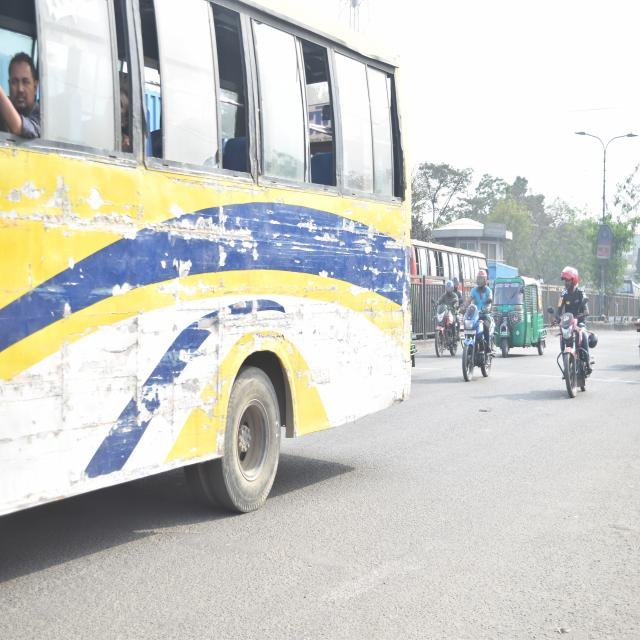bus: (0, 0, 412, 532)
motorbike: (544, 295, 601, 406), (453, 292, 495, 387), (428, 284, 458, 362)
